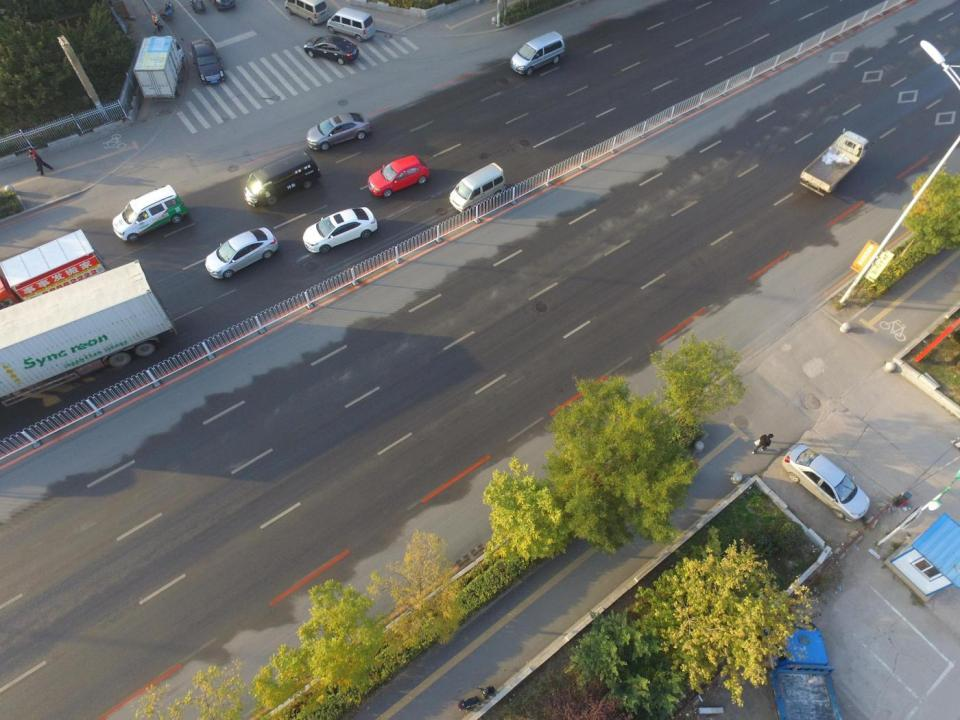car: (783, 441, 871, 522), (111, 184, 186, 242), (207, 228, 281, 280), (303, 205, 377, 252), (366, 151, 429, 199), (308, 112, 373, 151), (303, 31, 361, 65), (193, 39, 227, 85)
truck: (0, 260, 176, 407), (0, 228, 108, 308), (761, 616, 842, 720), (798, 132, 868, 194), (136, 36, 187, 100)
van: (244, 150, 318, 206), (450, 161, 504, 213), (510, 30, 566, 76), (328, 7, 374, 41), (286, 0, 328, 24)
